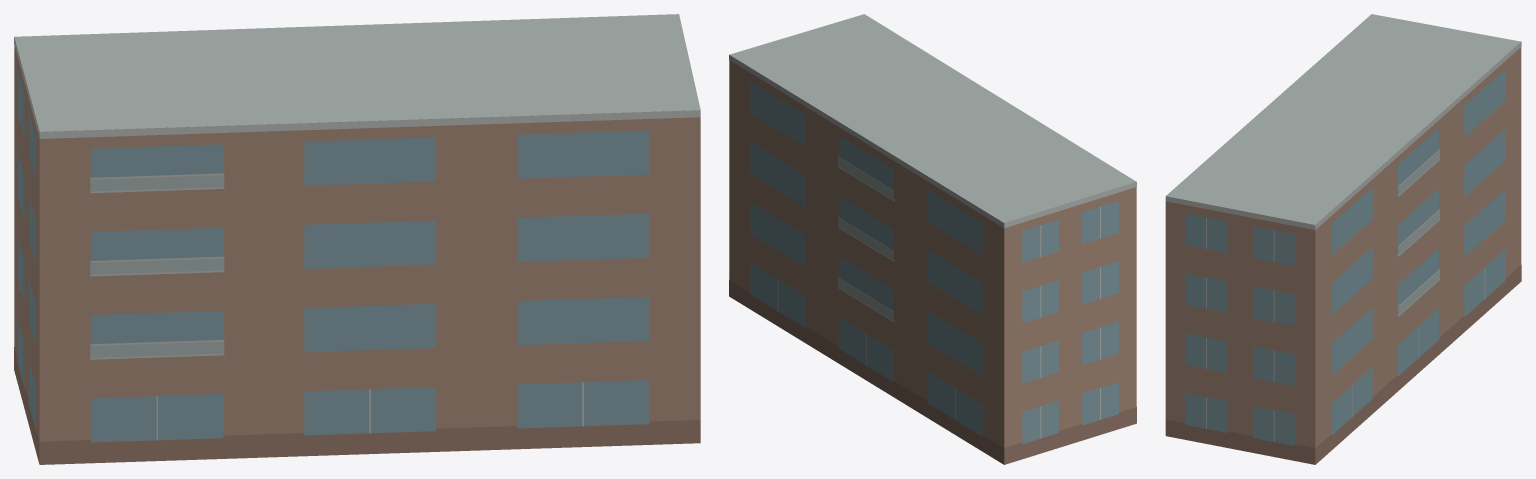
Rendered from survey-upis-32552255.glb.
3 renders of one model, left to right at view 1: azimuth 30°, elevation 25°; view 2: azimuth 150°, elevation 25°; view 3: azimuth 270°, elevation 25°, orthographic. The views are drawn at different scales.
Visible parts, largest first — view 1: survey-upis-32552255.tmp; view 2: survey-upis-32552255.tmp; view 3: survey-upis-32552255.tmp.
Part boxes in pixels (left/top/right/bottom): survey-upis-32552255.tmp: left=14, top=14, right=700, bottom=464; survey-upis-32552255.tmp: left=729, top=14, right=1136, bottom=464; survey-upis-32552255.tmp: left=1165, top=14, right=1521, bottom=464.
Size of the model in its own units: 21.71 by 11.5 by 15.47.
